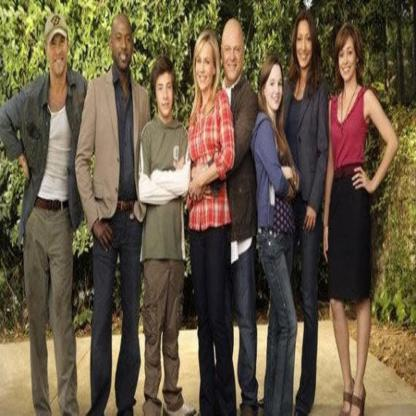face: (224, 29, 243, 78), (113, 24, 133, 69), (48, 32, 67, 75), (197, 41, 214, 89), (296, 21, 313, 68), (339, 37, 357, 79), (157, 72, 174, 116), (267, 67, 284, 111)
